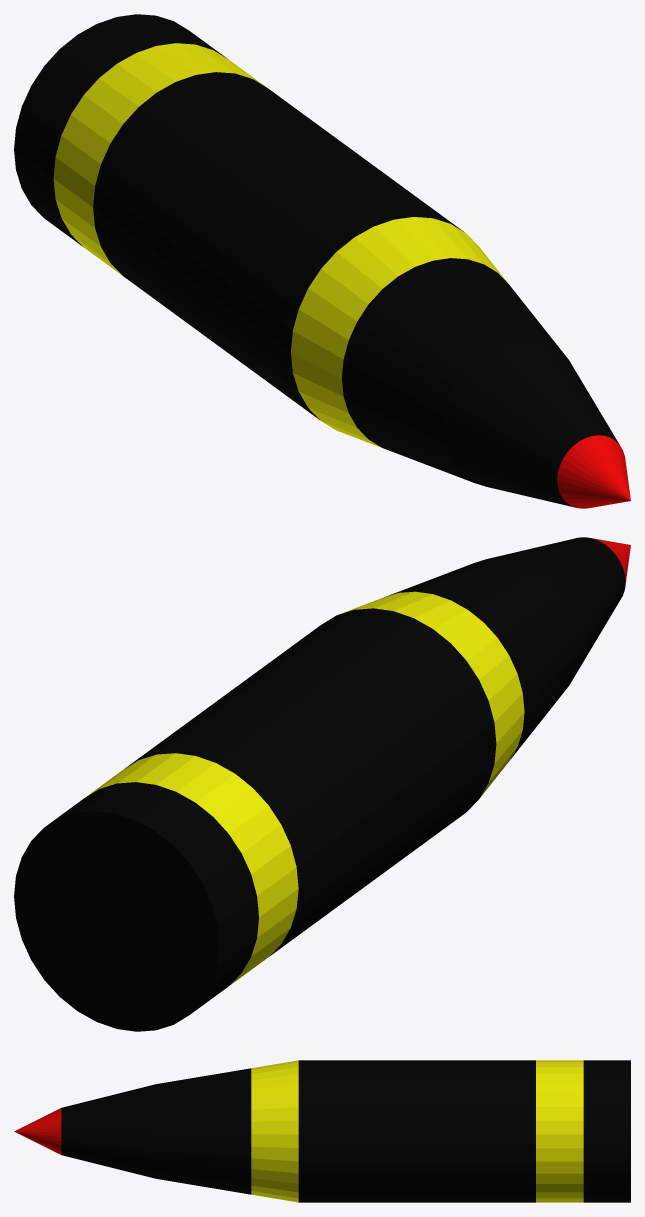
The model's file is Main_shell.fbx.
3 renders of one model, top to bottom at view 1: azimuth 30°, elevation 25°; view 2: azimuth 150°, elevation 25°; view 3: azimuth 270°, elevation 25°, orthographic. The views are drawn at different scales.
Visible parts, largest first — view 1: Cone.002; view 2: Cone.002; view 3: Cone.002.
Boxes of the visible parts, box(x1,y1,x2,y2) form: Cone.002: box(14, 14, 630, 508); Cone.002: box(14, 537, 630, 1031); Cone.002: box(14, 1060, 630, 1202).
Size of the model in its own units: 30 by 30 by 130.
